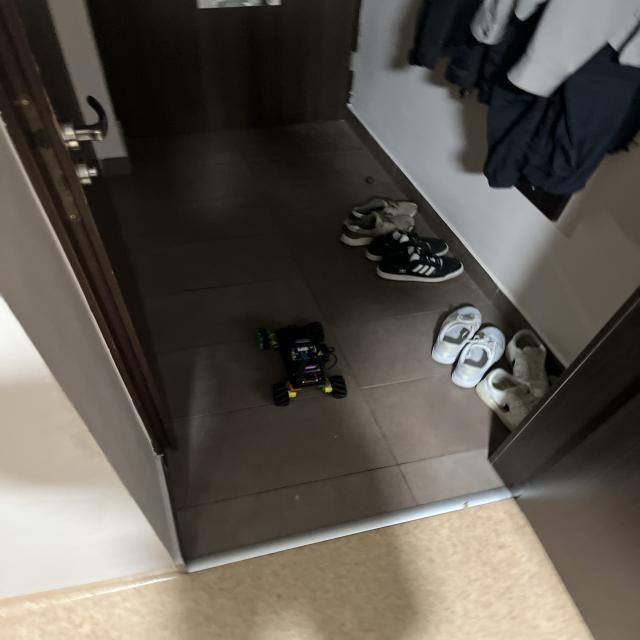robot: (256, 321, 347, 406)
